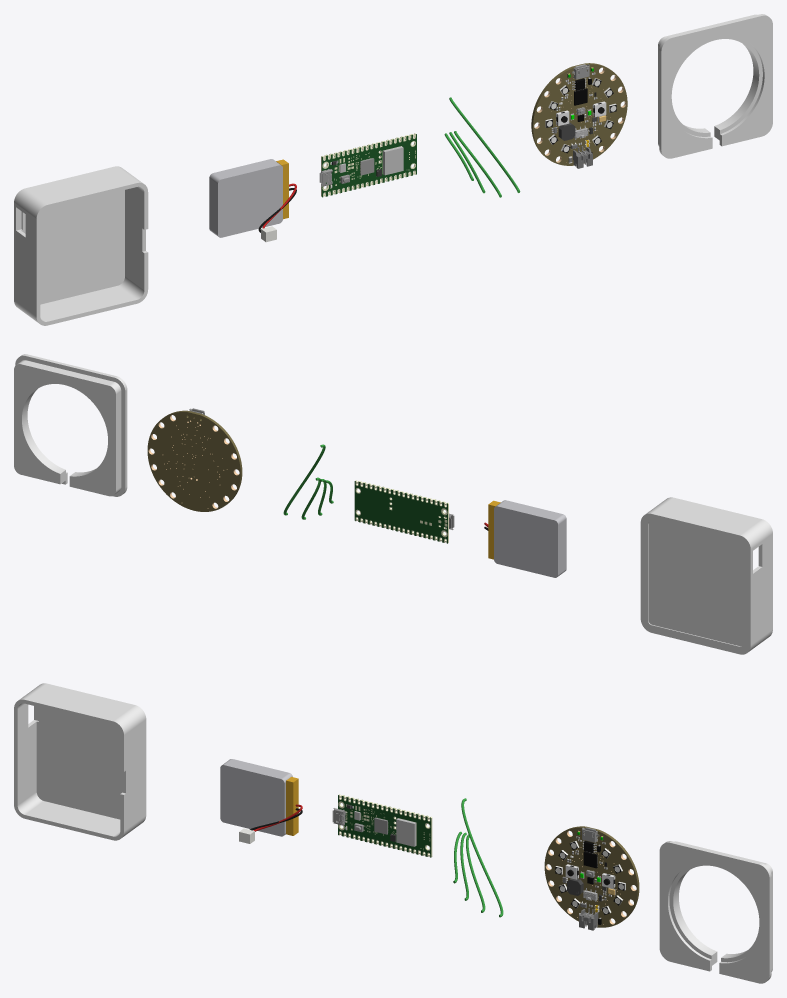
The model's file is StillHere_Exploded.obj.
3 views of the same model, one above another, from view 1: azimuth 30°, elevation 25°; view 2: azimuth 150°, elevation 25°; view 3: azimuth 330°, elevation 25° (orthographic).
Parts seen in each view (by area): view 1: Case_Base, Case_Lid, Body1:11, LiPo_Cell, Body1, Body1:1, Body1:5; view 2: Case_Base, Case_Lid, Body1:11, LiPo_Cell, Body1:2, Body1:1; view 3: Case_Base, Case_Lid, Body1:11, LiPo_Cell, Body1, Body1:1, LiPo_ProtectionBoard, Body1:5.
Part boxes in pixels (x1=…): Case_Base: x1=14, y1=166, x2=148, y2=325; Case_Lid: x1=658, y1=14, x2=772, y2=158; Body1:11: x1=531, y1=63, x2=627, y2=165; LiPo_Cell: x1=209, y1=159, x2=282, y2=237; Body1: x1=322, y1=134, x2=416, y2=197; Body1:1: x1=321, y1=133, x2=415, y2=197; Body1:5: x1=383, y1=146, x2=403, y2=175; Case_Base: x1=640, y1=497, x2=772, y2=654; Case_Lid: x1=14, y1=354, x2=127, y2=496; Body1:11: x1=147, y1=410, x2=242, y2=511; LiPo_Cell: x1=494, y1=500, x2=566, y2=577; Body1:2: x1=354, y1=481, x2=447, y2=543; Body1:1: x1=355, y1=480, x2=448, y2=543; Case_Base: x1=14, y1=683, x2=146, y2=840; Case_Lid: x1=659, y1=841, x2=772, y2=983; Body1:11: x1=544, y1=826, x2=639, y2=927; LiPo_Cell: x1=220, y1=759, x2=292, y2=836; Body1: x1=338, y1=795, x2=431, y2=857; Body1:1: x1=338, y1=794, x2=432, y2=857; LiPo_ProtectionBoard: x1=286, y1=777, x2=298, y2=835; Body1:5: x1=396, y1=818, x2=416, y2=846.
Bounding box in the file's own units: 40.4 × 6.2 × 2.15.
